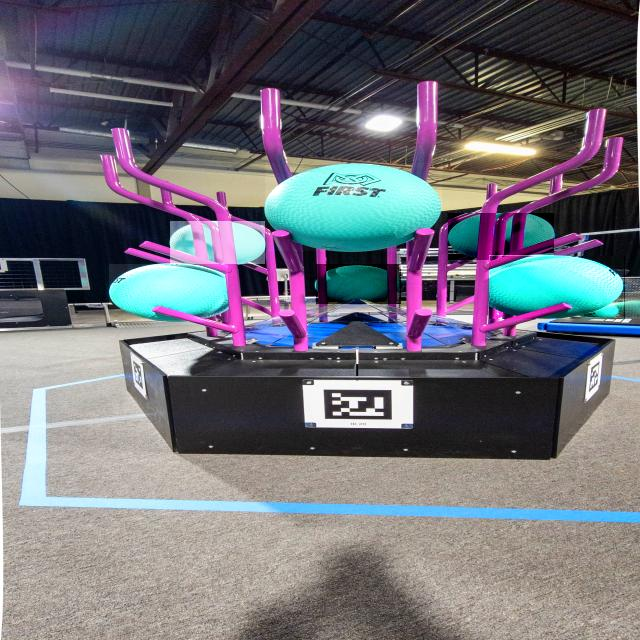Algae: (265, 163, 442, 251), (490, 256, 626, 319), (109, 264, 228, 322), (448, 214, 554, 262), (170, 221, 265, 264), (316, 264, 401, 304)
